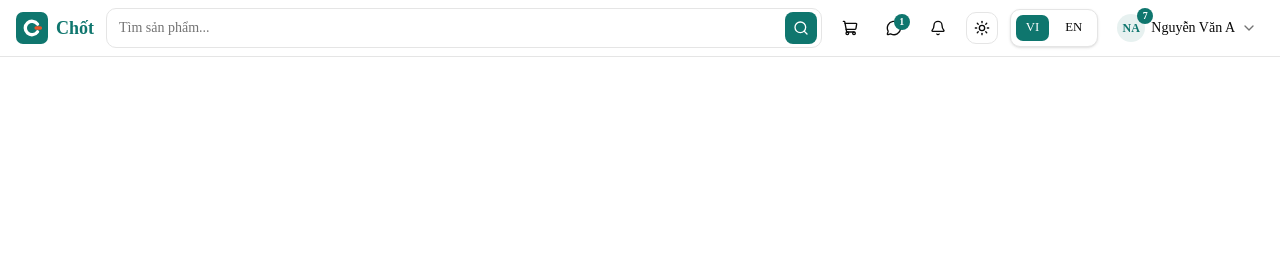
Test: Header — tin nhắn (Week10.md 5.5, D8) › có shop: thêm "Tin nhắn của khách" trỏ /seller/chat kèm huy hiệu RIÊNG của shop, sau mục kênh người bán
Click the button "NA 7 Nguyễn Văn A" at (1187, 28), box [1110,12,1264,44]
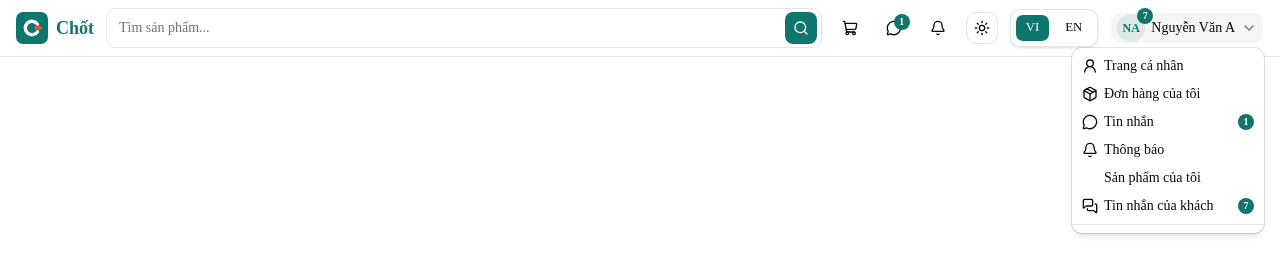
Check: the text "7" next to "Tin nhắn của khách" is shown, box [1244,200,1248,211]
